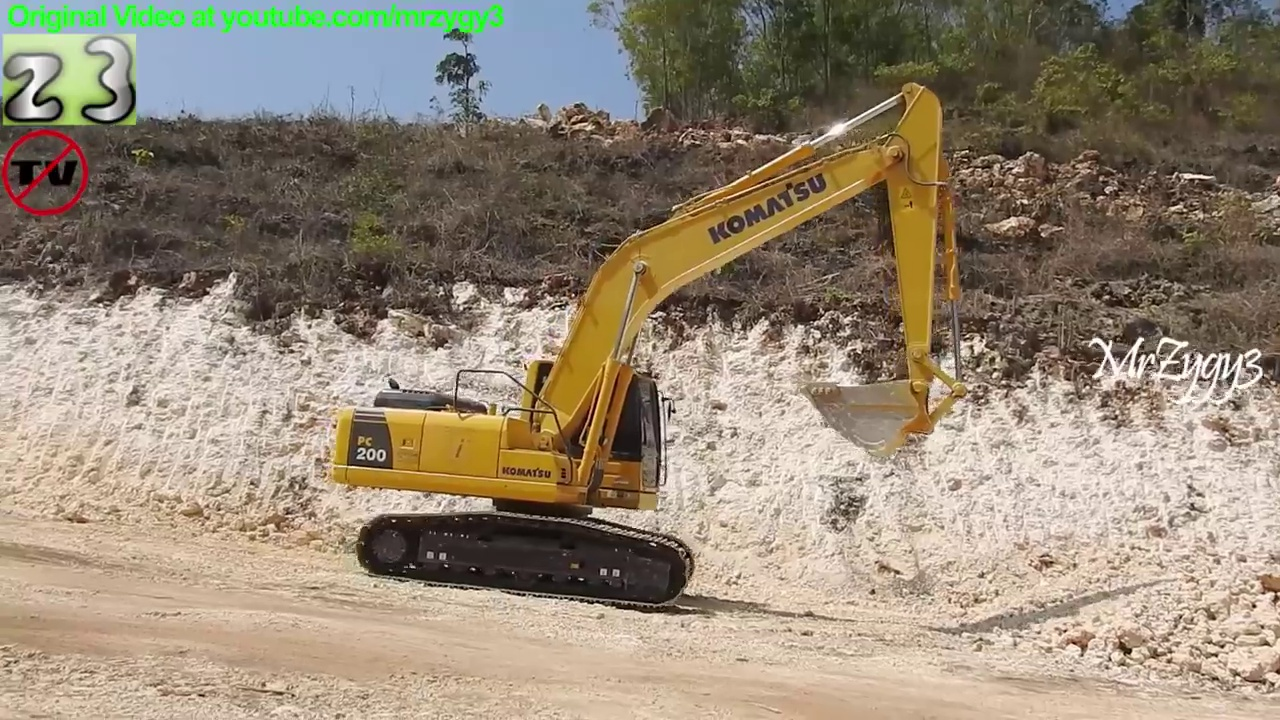excavator: (329, 78, 969, 616)
